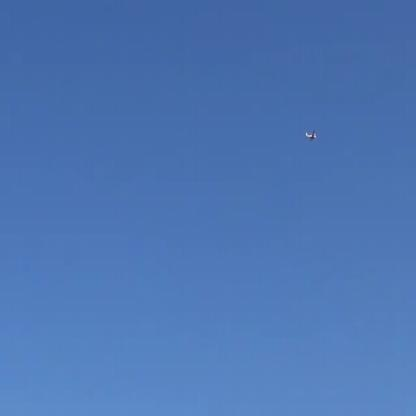CIV_Plane: (304, 130, 318, 140)
